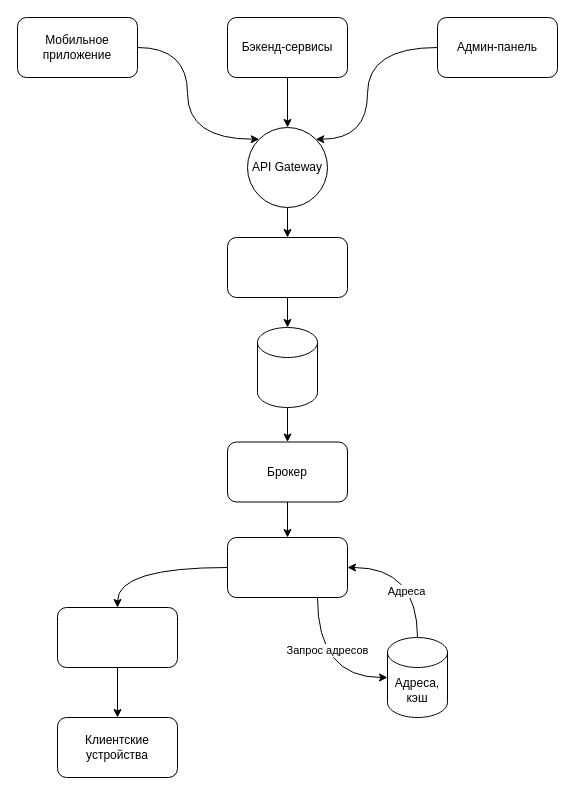
Image size: 575x795. Some labels were removed from this diagram. Here are the shapes that lost their labels. From the top down, the centre of each, then its label:
the point at 287,267: Сервис уведомлений
the point at 287,367: БД
the point at 287,567: Сервис отправки
the point at 117,637: Провайдеры
